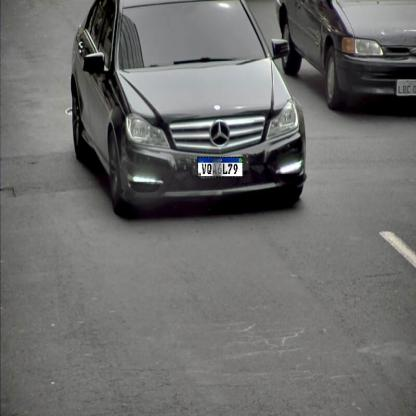PlacaM: (197, 156, 243, 178)
